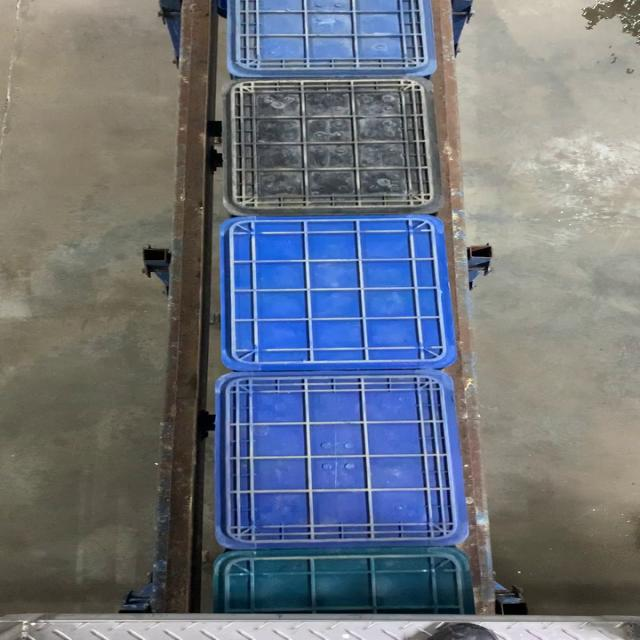Box: (211, 370, 472, 548), (218, 217, 467, 369), (220, 77, 446, 217)
